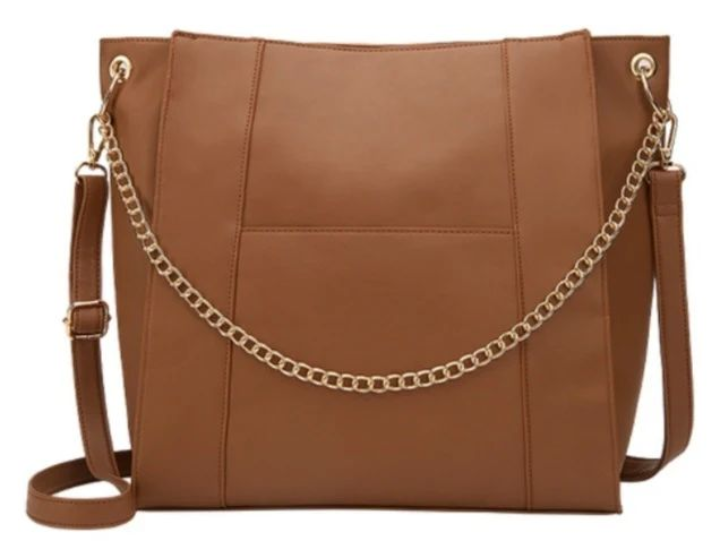cartera: (18, 32, 714, 538)
cuero: (353, 141, 444, 198)
